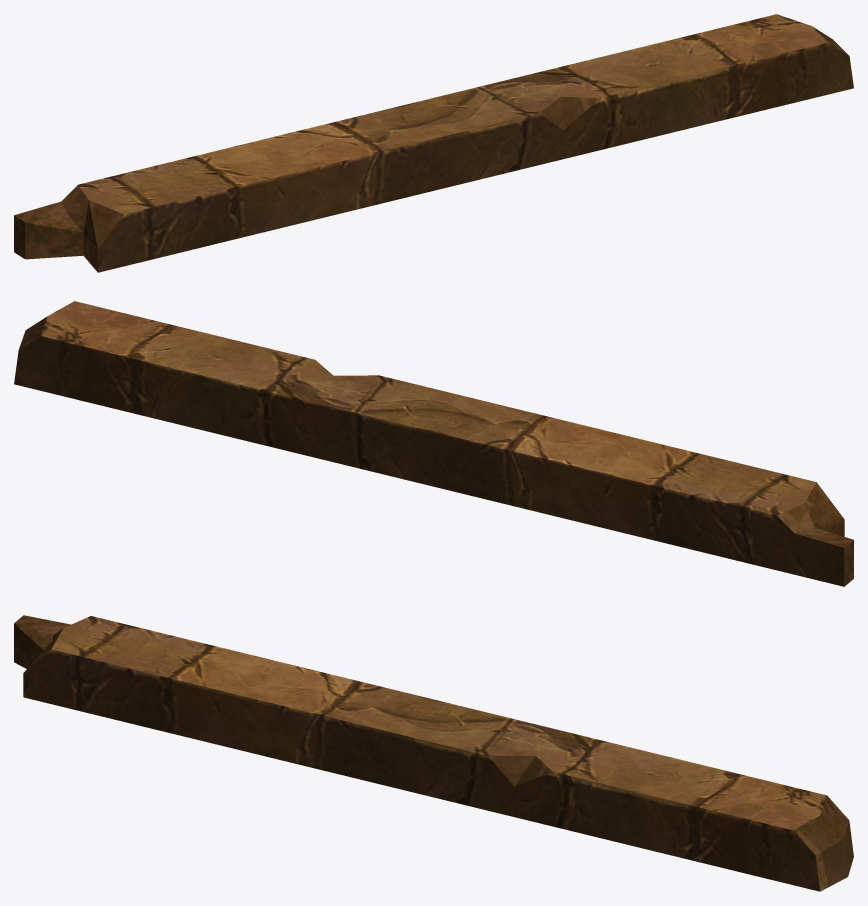
Rendered from Scene_hubian_006.FBX.
The picture shows the model from 3 angles, top to bottom: view 1: azimuth 30°, elevation 25°; view 2: azimuth 150°, elevation 25°; view 3: azimuth 330°, elevation 25°; orthographic projection. The views are drawn at different scales.
Parts seen in each view (by area): view 1: Scene_hubian_006; view 2: Scene_hubian_006; view 3: Scene_hubian_006.
Boxes of the visible parts, x1,y1,x2,y2 form: Scene_hubian_006: [14, 14, 853, 272]; Scene_hubian_006: [14, 301, 853, 586]; Scene_hubian_006: [14, 615, 853, 891].
Size of the model in its own units: 10.92 by 0.675 by 0.99.
